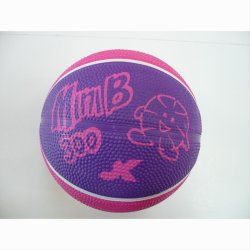basketball: (39, 50, 202, 213)
